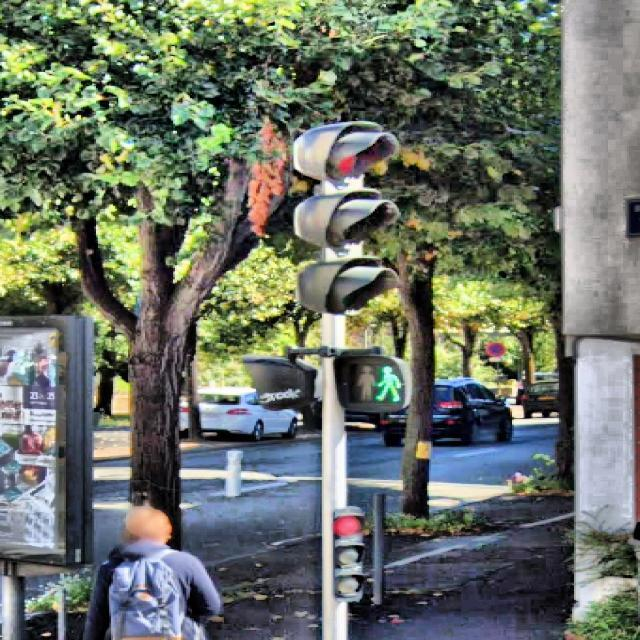green_light: (368, 361, 403, 402)
